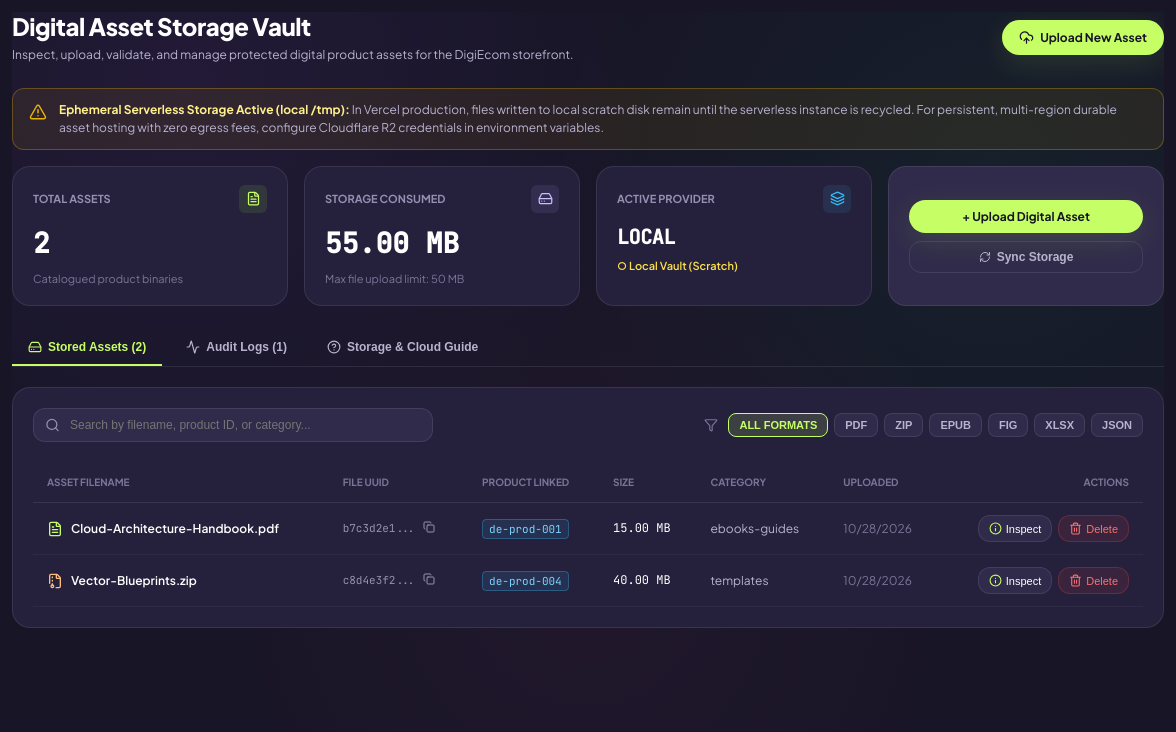
Test: Admin Storage Dashboard UI (Phase 3) › filters assets by search text in File Manager table
Expected: the text "Cloud-Architecture-Handbook.pdf" is shown, [71, 519, 279, 538]
Expected: the text "Vector-Blueprints.zip" is shown, [71, 571, 197, 590]
Type "Vector" into the field with placeholder "Search by filename, product ID, or category...".
click(233, 425); type("Vector")  # box [33, 408, 433, 442]
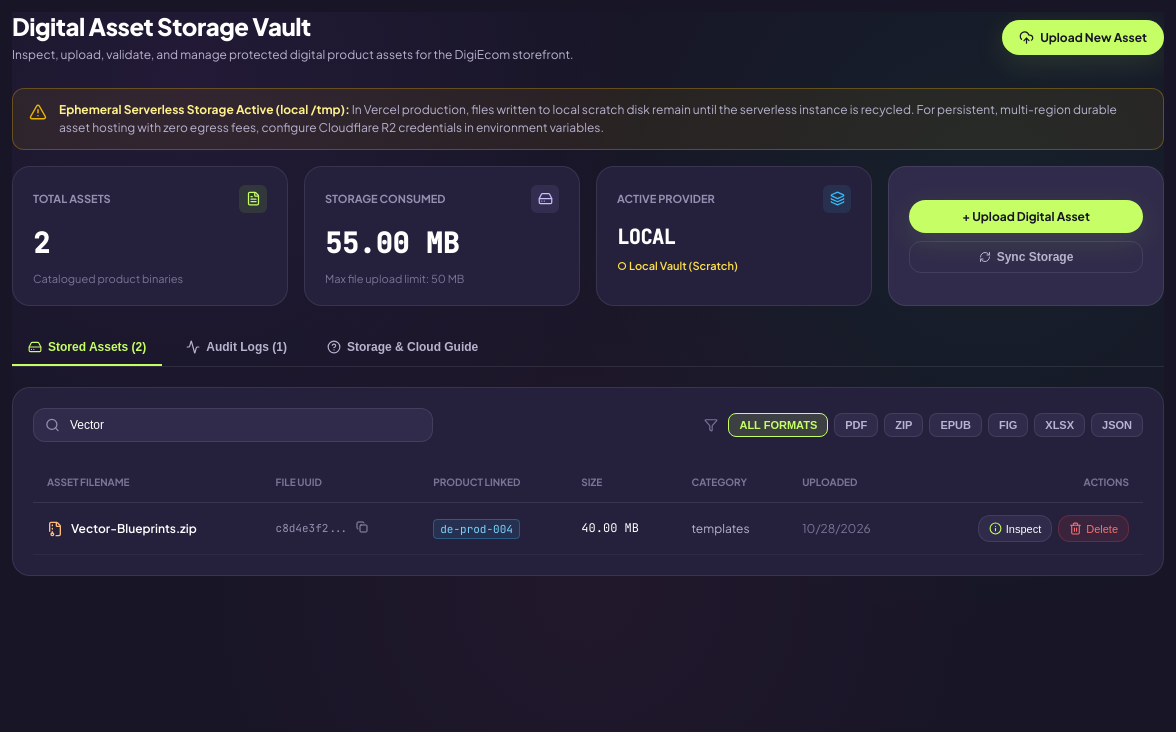
Expected: the text "Vector-Blueprints.zip" is shown, [71, 519, 197, 538]
Expected: the text "Cloud-Architecture-Handbook.pdf" is gone
